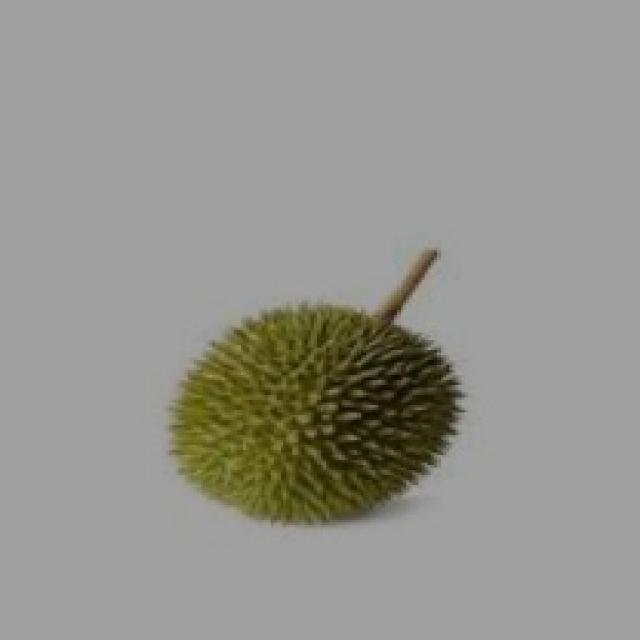fruit: (136, 270, 490, 565)
